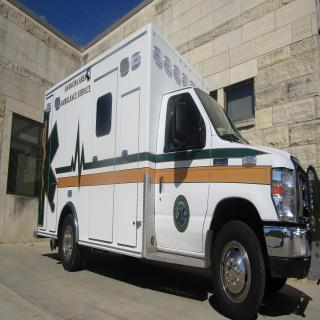Ambulance: (37, 15, 320, 320)
